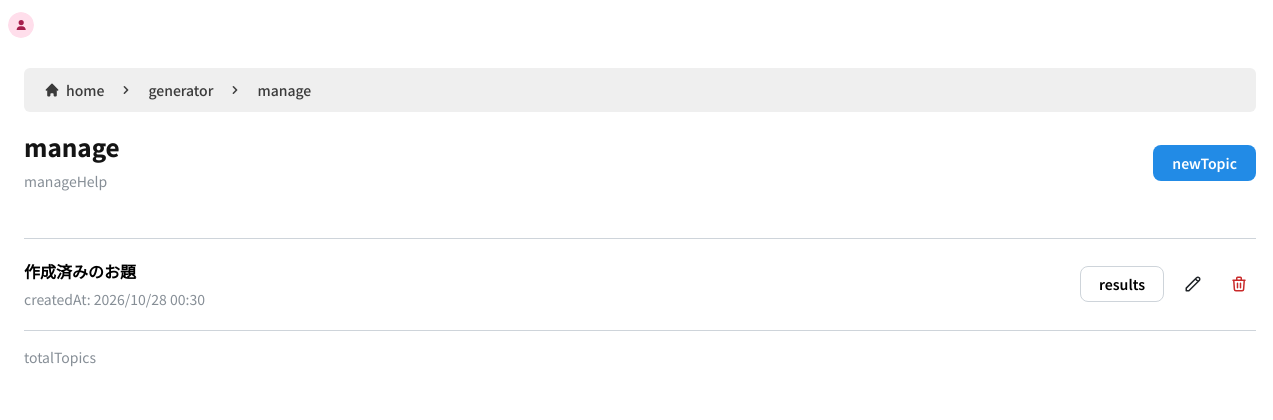
作成したお題・集計の専用ページ › 右上の管理機能の有効・無効に連動し、一覧に独立したトグルを置かない
Expected: the heading "作成済みのお題" is shown, [24, 259, 136, 283]
Click the button named "menuLabel": point(21, 25) [8, 12, 34, 38]
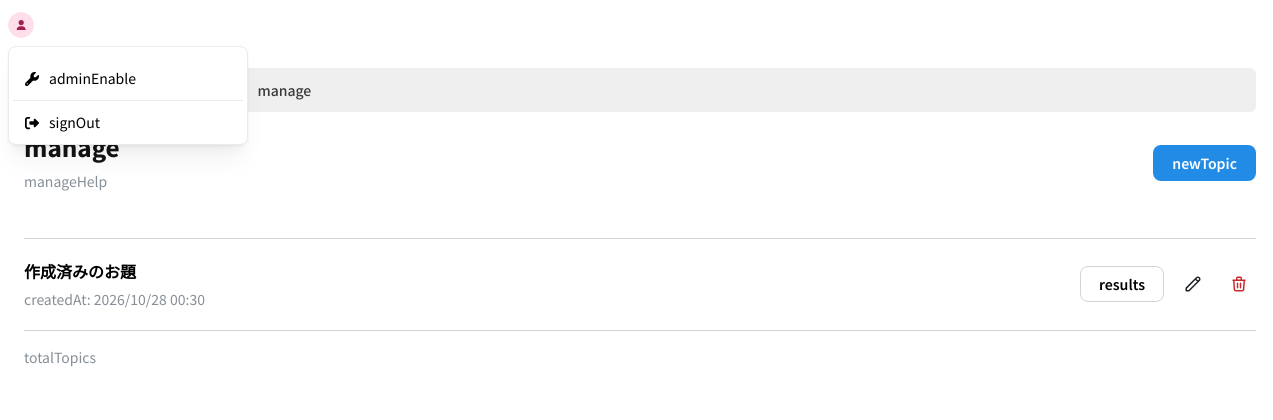
Click the menu item "adminEnable": point(128, 78) [13, 61, 243, 96]
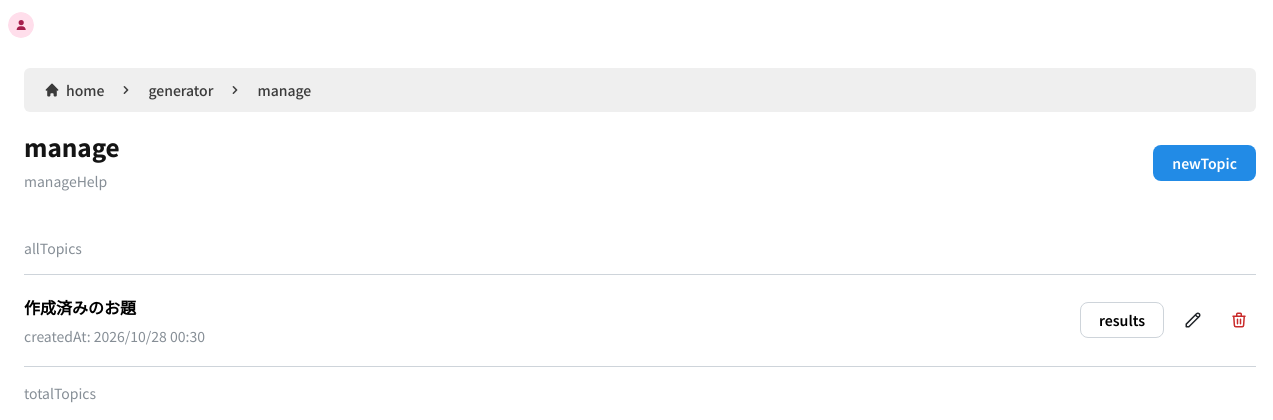
Result: the text "allTopics" is shown at [24, 238, 82, 258]
Click the button named "menuLabel": point(21, 25) [8, 12, 34, 38]
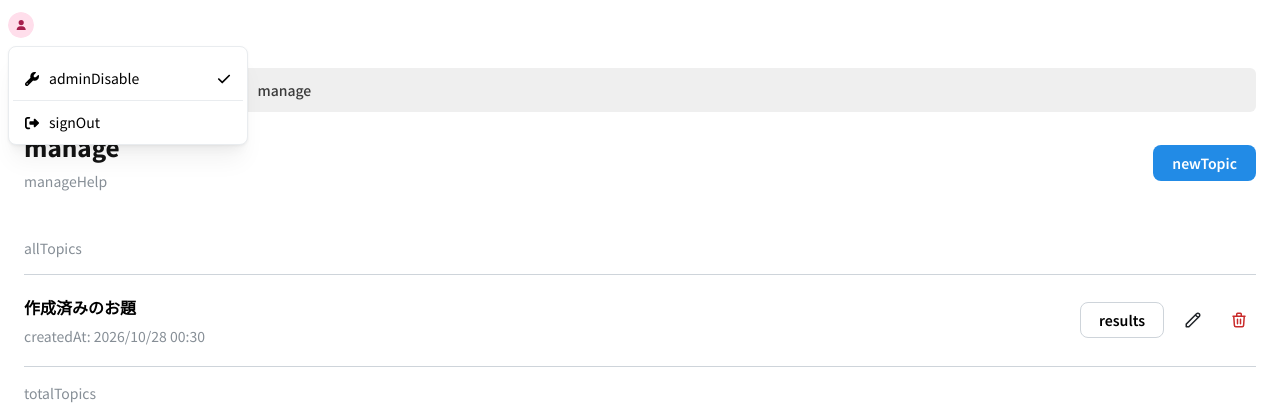
Click the menu item "adminDisable": point(128, 78) [13, 61, 243, 96]
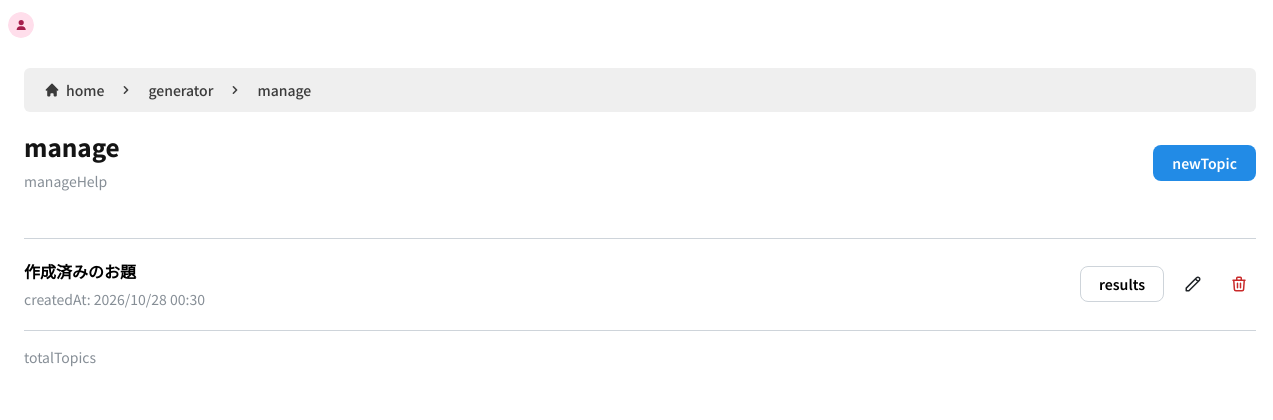
Result: the text "allTopics" is gone
